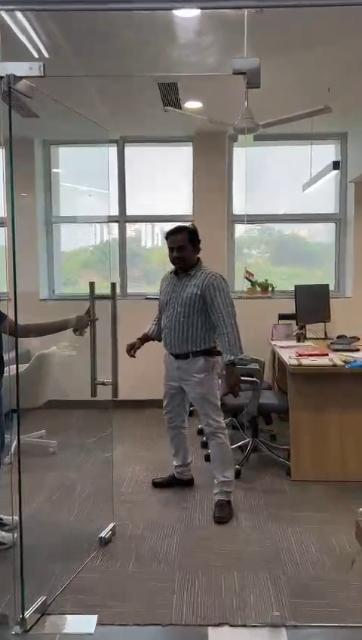floor: (26, 526, 344, 640)
moving-obj: (138, 214, 248, 530), (0, 289, 105, 359)
object: (220, 346, 290, 506), (284, 263, 350, 337)
wall: (13, 152, 37, 304), (195, 141, 231, 235)
